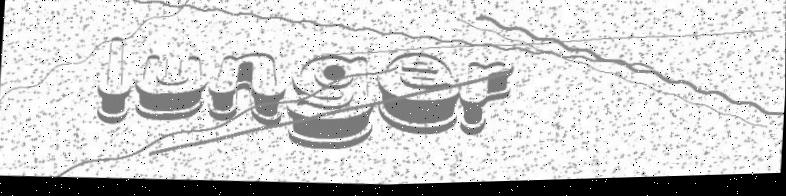e: (374, 50, 462, 142)
g: (284, 51, 380, 156)
l: (93, 32, 136, 126)
n: (205, 48, 290, 128)
r: (458, 59, 517, 143)
u: (130, 48, 210, 126)
